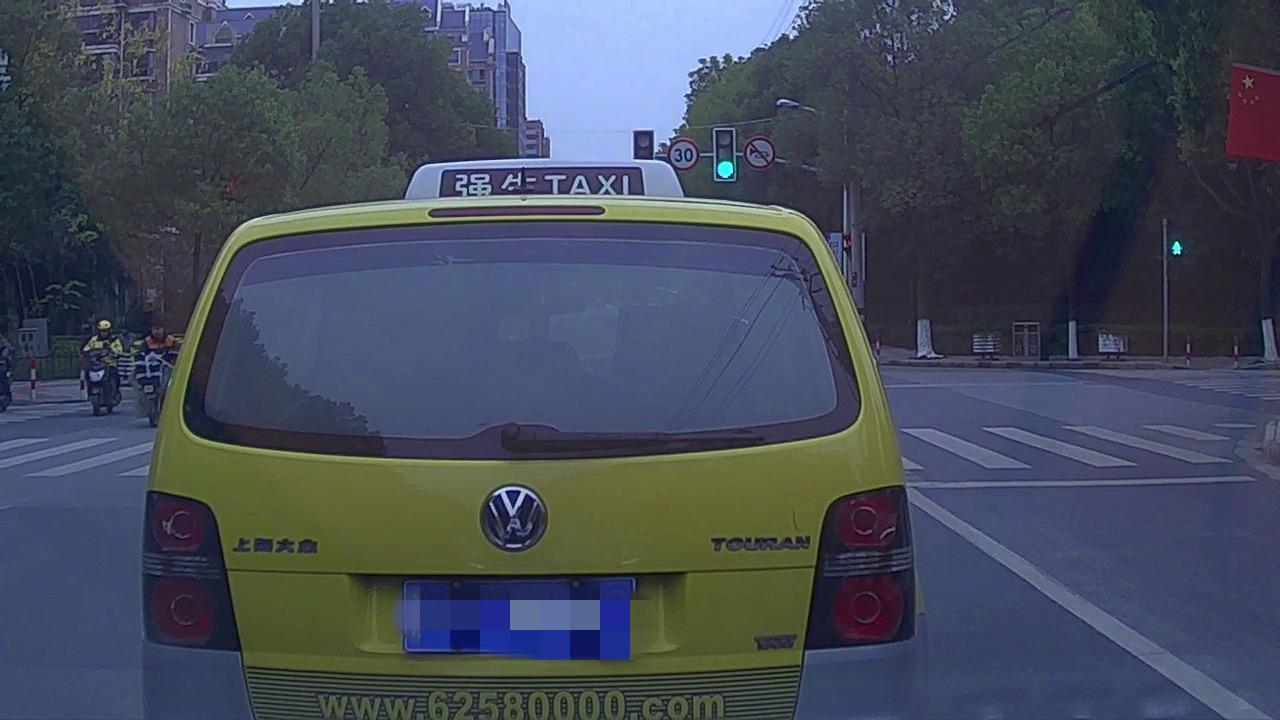traffic_light: (716, 128, 739, 183), (632, 127, 655, 159)
